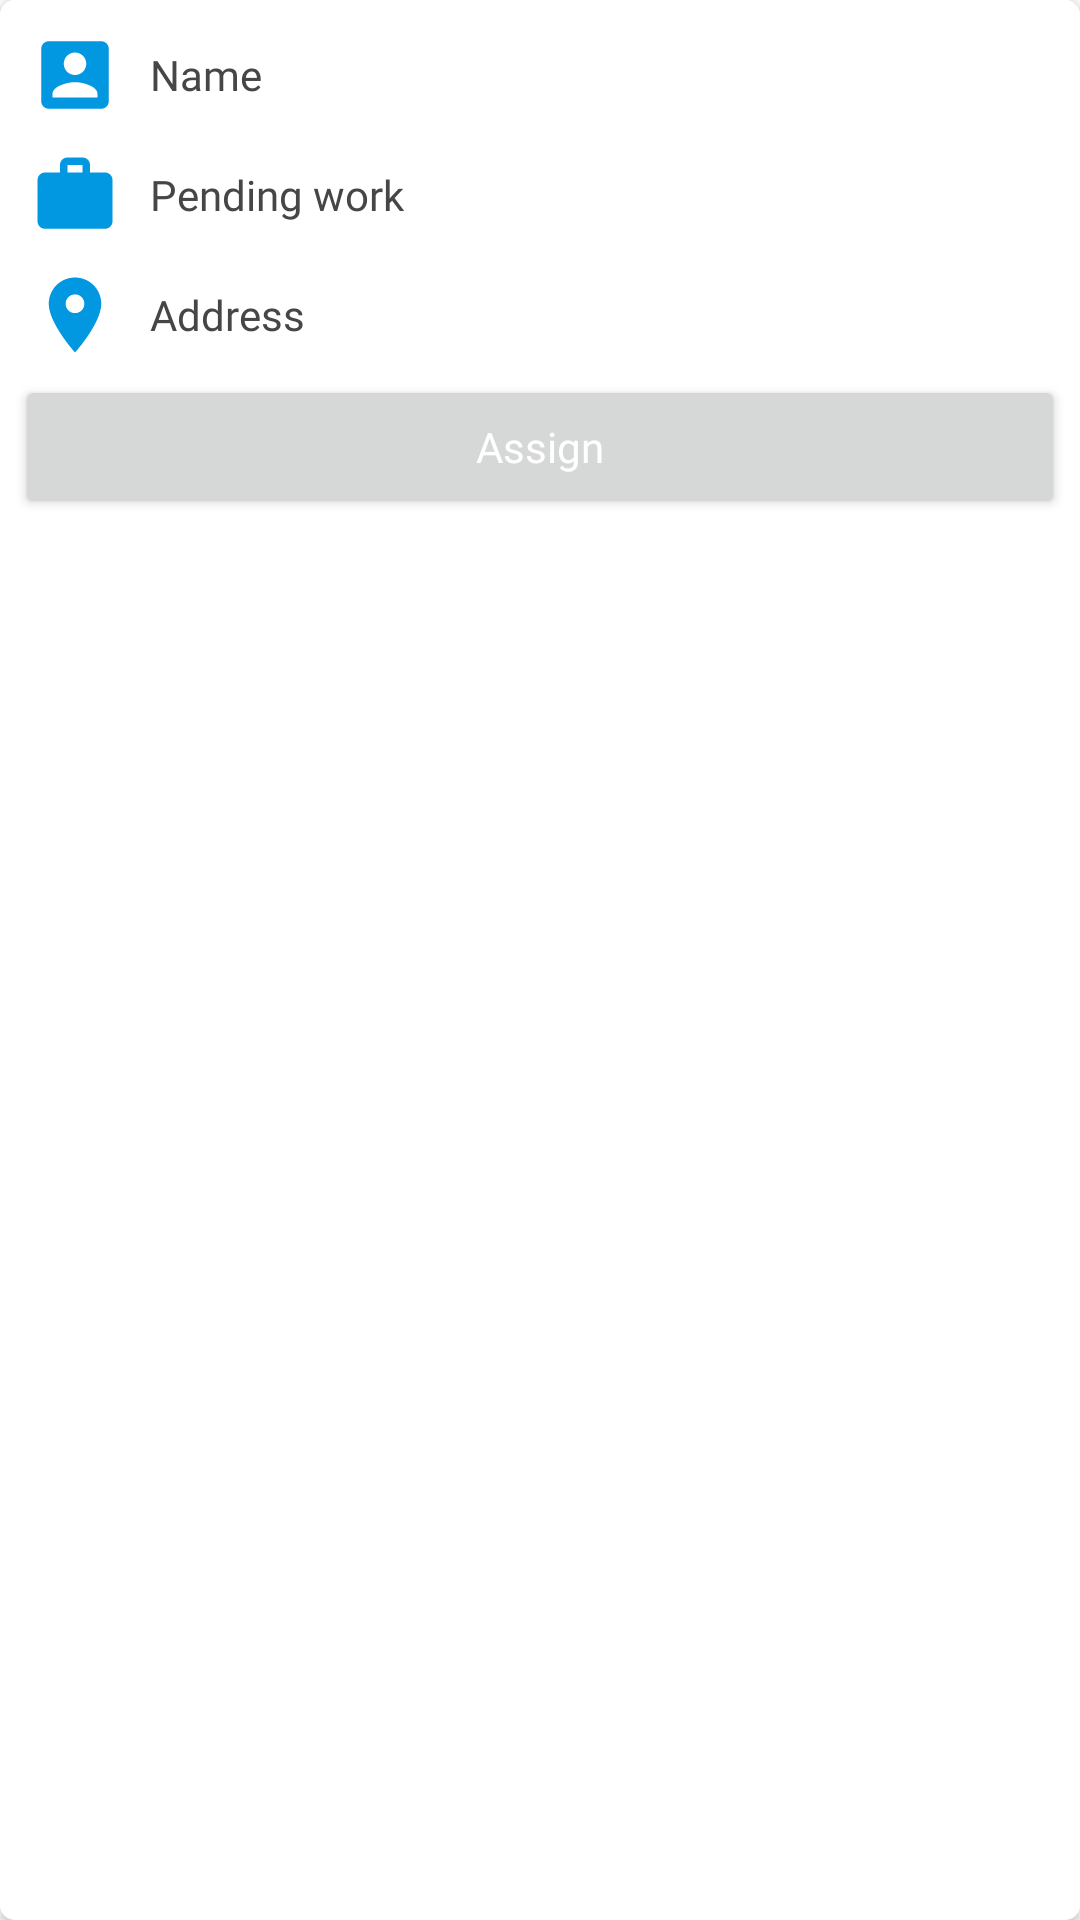

Icon bounding boxes for this 1080x1920 phone screenshot, format (x1, y1, x2, y2):
location: (48, 277, 102, 352)
